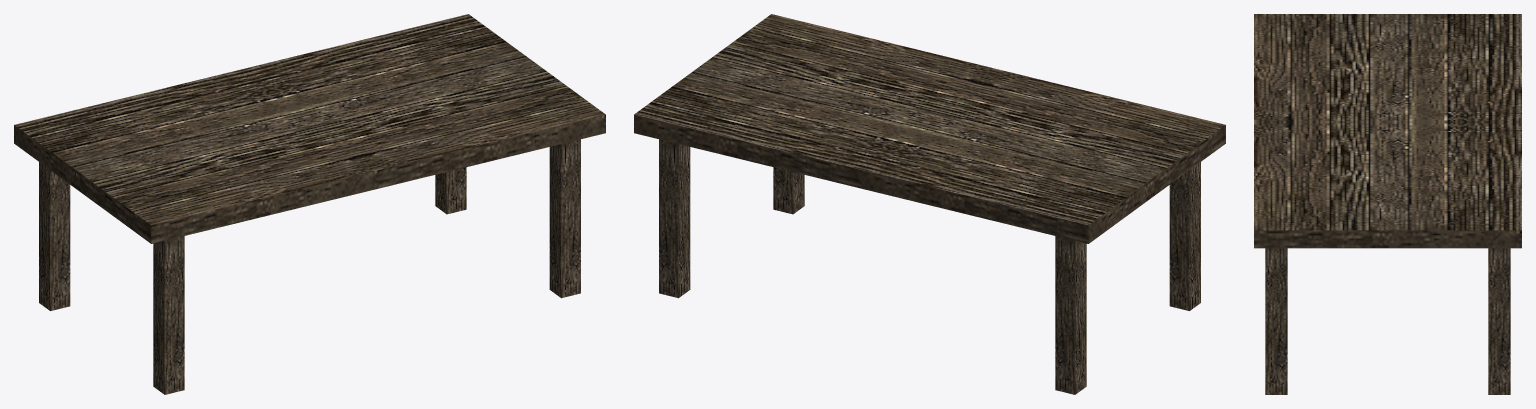
The model's file is Table.fbx.
3 views of the same model, side by side, from view 1: azimuth 30°, elevation 25°; view 2: azimuth 150°, elevation 25°; view 3: azimuth 270°, elevation 25° (orthographic). The views are drawn at different scales.
Visible parts, largest first — view 1: Table; view 2: Table; view 3: Table.
Part boxes in pixels (box(x1,y1,x2,y2)): Table: box(14, 14, 605, 394); Table: box(634, 14, 1225, 394); Table: box(1254, 14, 1521, 394).
Bounding box in the file's own units: 2.29 × 0.86 × 1.2.
